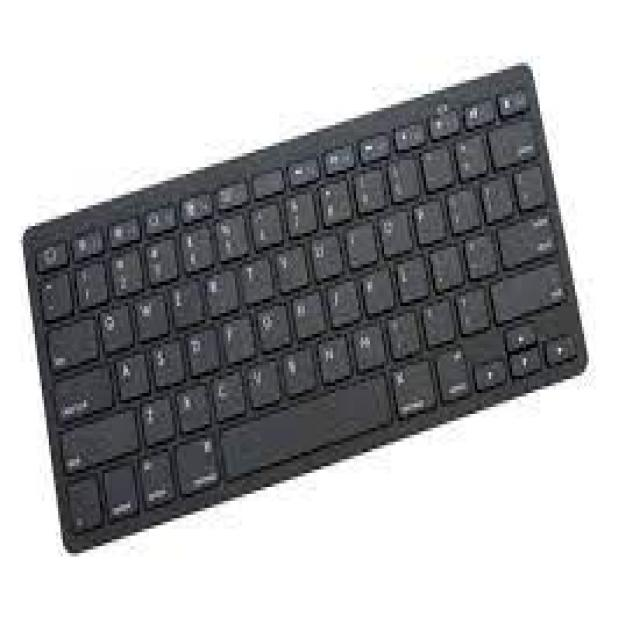others: (21, 62, 600, 564)
